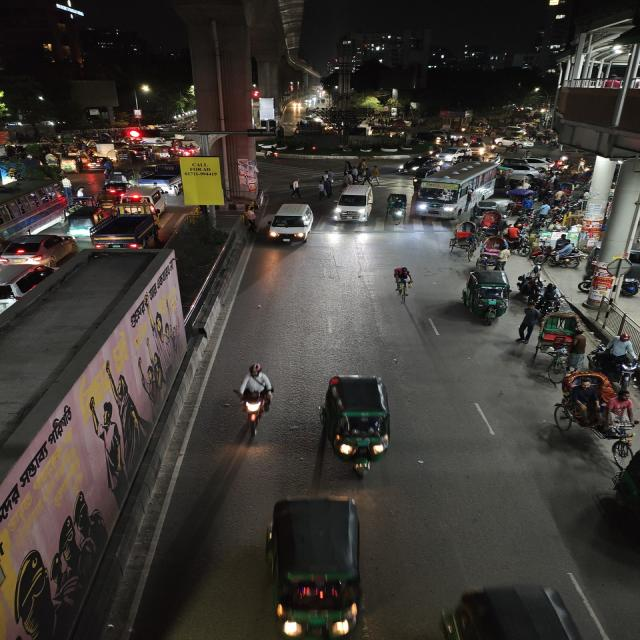bicycle: (387, 264, 417, 302), (315, 175, 333, 199)
bus: (413, 161, 502, 220), (0, 177, 69, 243)
car: (0, 263, 52, 314), (1, 232, 75, 266), (267, 198, 316, 246), (331, 180, 377, 226), (498, 156, 537, 177), (397, 156, 437, 174), (100, 180, 130, 200), (89, 158, 107, 170)
cng: (260, 495, 375, 640), (318, 370, 397, 481), (460, 268, 510, 325), (384, 190, 409, 224), (104, 168, 135, 185), (61, 156, 82, 176), (152, 146, 174, 160)
motorcycle: (229, 360, 278, 438), (591, 334, 640, 388), (536, 280, 563, 316), (519, 270, 545, 304)
pedestrian: (516, 302, 541, 342), (287, 178, 307, 199), (342, 163, 357, 184), (347, 165, 362, 185)
pickup_van: (89, 202, 163, 254), (134, 162, 182, 190)
rickshaw: (548, 368, 638, 452), (535, 311, 589, 371), (578, 264, 620, 306), (534, 235, 583, 269), (446, 219, 480, 257), (476, 234, 511, 270), (384, 190, 409, 225), (364, 164, 382, 187), (516, 137, 536, 152)
